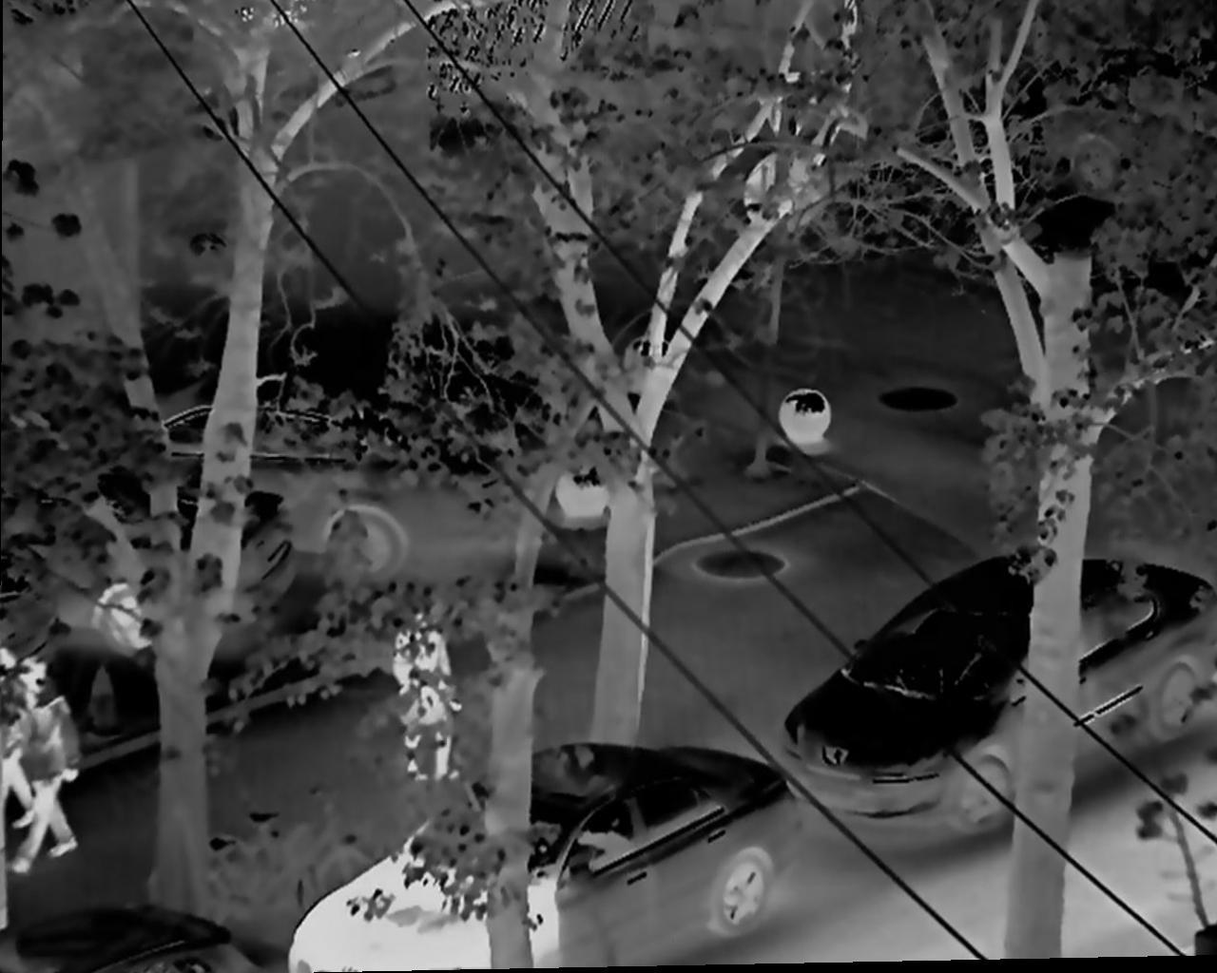person: (10, 657, 83, 871), (395, 633, 456, 785)
